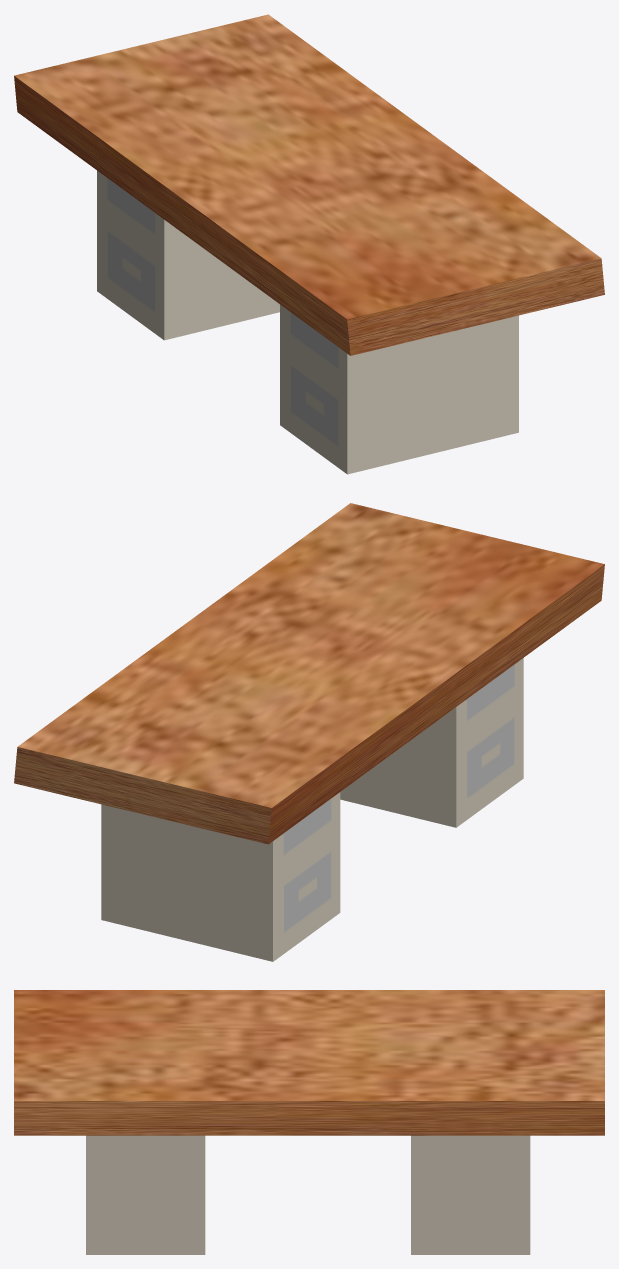
The model's file is escritorio.obj.
3 views of the same model, one above another, from view 1: azimuth 30°, elevation 25°; view 2: azimuth 150°, elevation 25°; view 3: azimuth 270°, elevation 25° (orthographic). The views are drawn at different scales.
Parts seen in each view (by area): view 1: pCube2, pCube1, pasted__pCube1 group2; view 2: pCube2, pasted__pCube1 group2, pCube1; view 3: pCube2, pCube1, pasted__pCube1 group2.
Boxes of the visible parts, x1=… form: pCube2: x1=14, y1=14, x2=604, y2=355; pCube1: x1=280, y1=304, x2=518, y2=474; pasted__pCube1 group2: x1=97, y1=170, x2=279, y2=340; pCube2: x1=14, y1=503, x2=604, y2=844; pasted__pCube1 group2: x1=101, y1=792, x2=340, y2=961; pCube1: x1=340, y1=658, x2=523, y2=827; pCube2: x1=14, y1=990, x2=604, y2=1135; pCube1: x1=86, y1=1135, x2=205, y2=1254; pasted__pCube1 group2: x1=411, y1=1135, x2=530, y2=1254.
Size of the model in its own units: 3.04 by 2.19 by 6.8.
5 materials, 5 textured.
